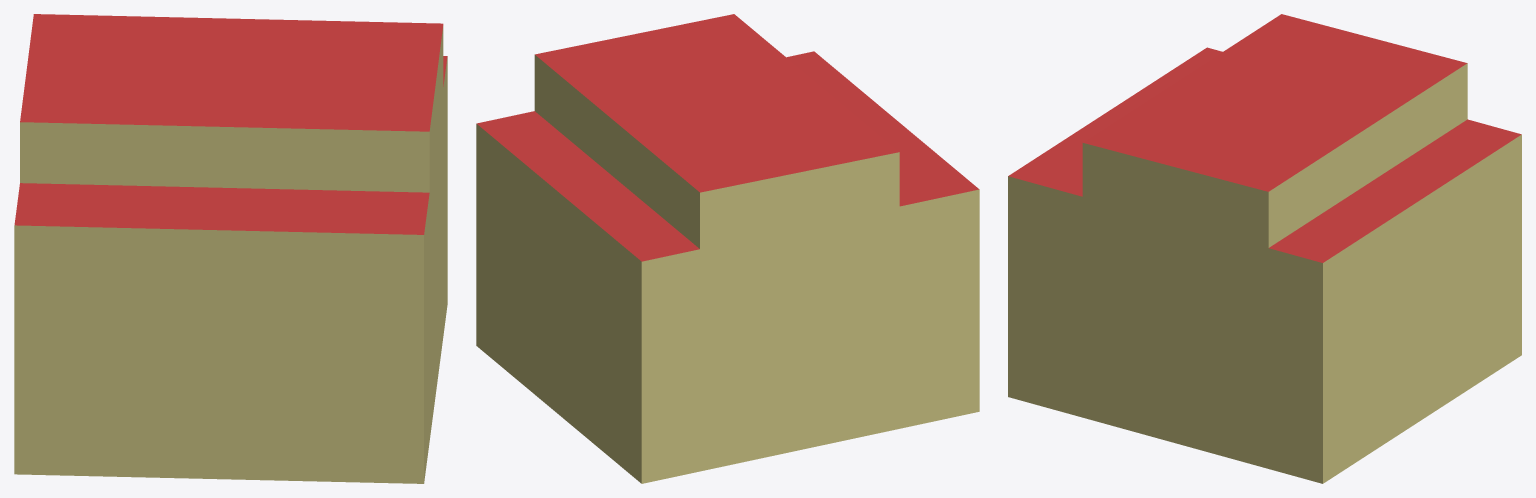
3 renders of one model, left to right at view 1: azimuth 30°, elevation 25°; view 2: azimuth 150°, elevation 25°; view 3: azimuth 270°, elevation 25°, orthographic. The views are drawn at different scales.
Bounding box in the file's own units: 26.14 × 26.32 × 15.66.
